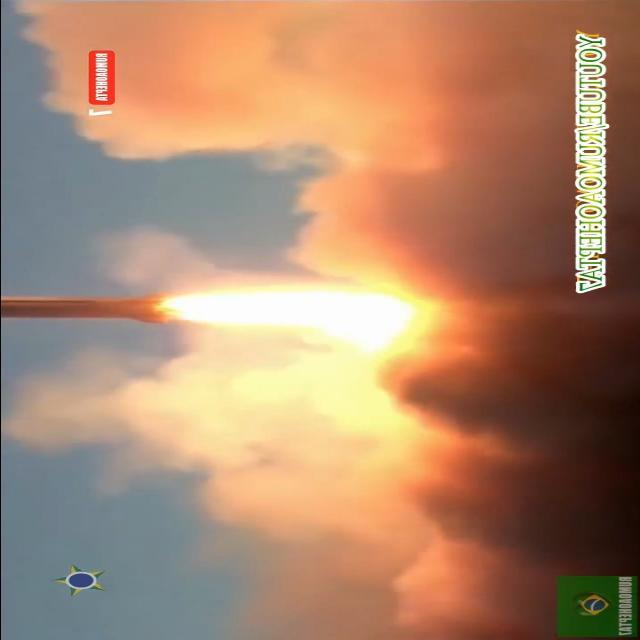Missile: (0, 290, 186, 332)
